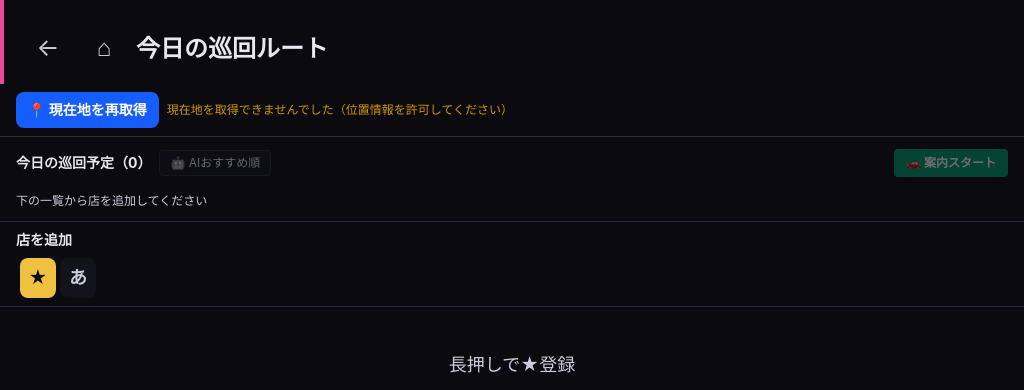
Scenario: AC4: 取得失敗時のみ再取得ボタン、押下で再取得→成功で消える › NULL_LOC → route-relocate 描画、click で再取得成功→ボタン消滅
The width and height of the screenshot is (1024, 390).
Step 1. Click the button with test id "route-relocate" → (87, 110), box [16, 92, 159, 128]
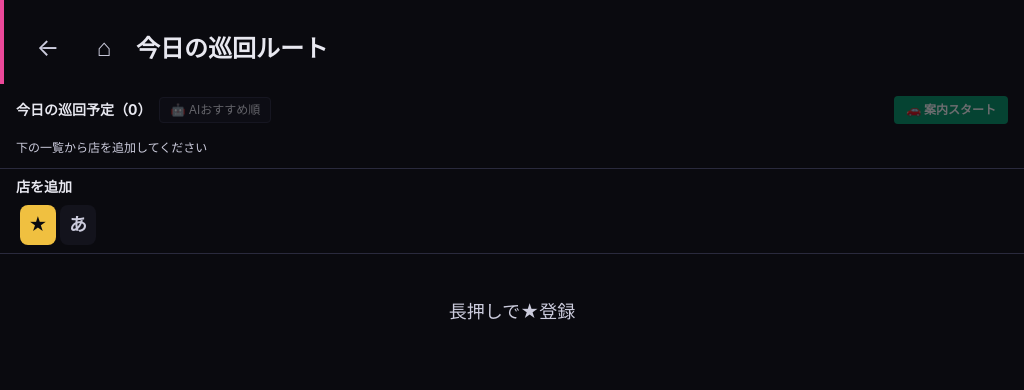
expect the button with test id "route-relocate" is gone: met
